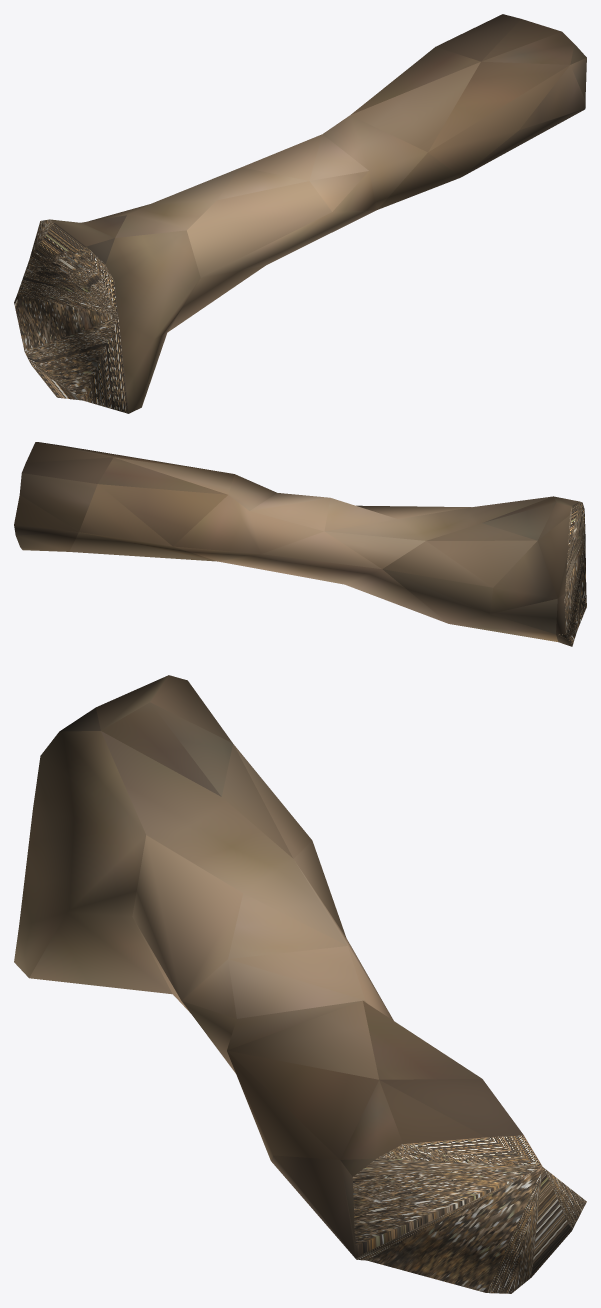
The model's file is Sungaya_inexpectata_31mg.041.obj.
3 views of the same model, one above another, from view 1: azimuth 30°, elevation 25°; view 2: azimuth 150°, elevation 25°; view 3: azimuth 270°, elevation 25° (orthographic). The views are drawn at different scales.
Parts seen in each view (by area): view 1: 40-m-r-tarsus_Sungaya_inexpectata_31mg.041; view 2: 40-m-r-tarsus_Sungaya_inexpectata_31mg.041; view 3: 40-m-r-tarsus_Sungaya_inexpectata_31mg.041.
Boxes of the visible parts, left/top/right/bottom form: 40-m-r-tarsus_Sungaya_inexpectata_31mg.041: left=14, top=14, right=586, bottom=413; 40-m-r-tarsus_Sungaya_inexpectata_31mg.041: left=14, top=442, right=586, bottom=646; 40-m-r-tarsus_Sungaya_inexpectata_31mg.041: left=14, top=675, right=586, bottom=1293.
Bounding box in the file's own units: 0.000885 × 0.000245 × 0.000455.
1 material, 1 textured.
